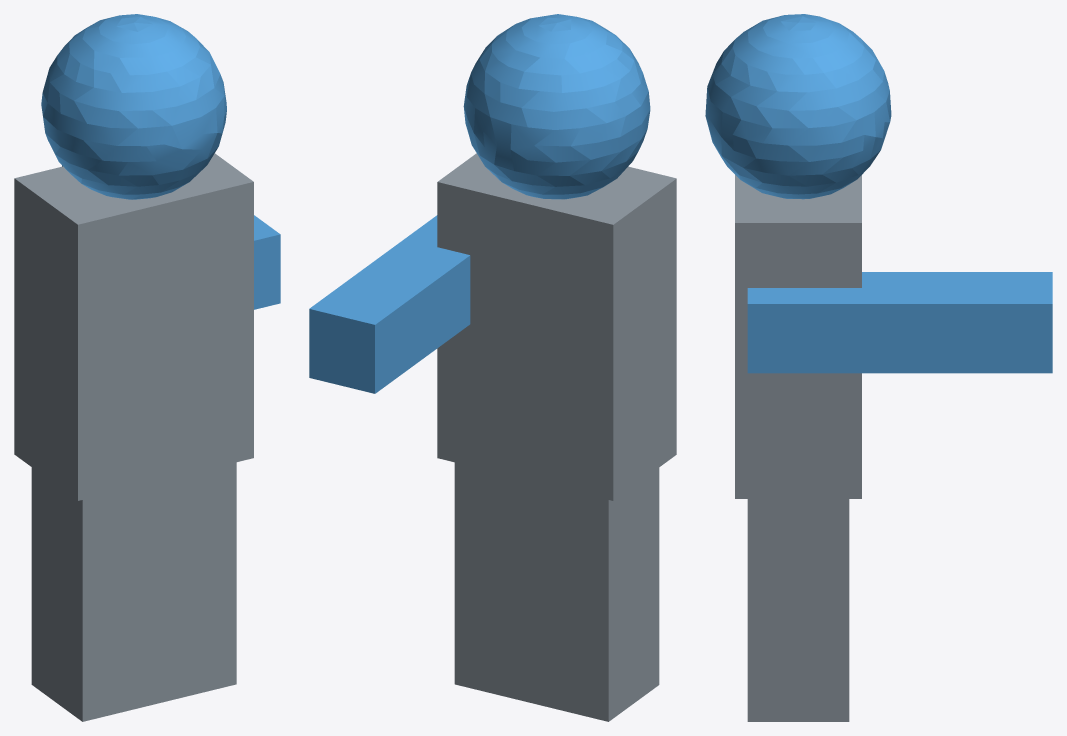
The model's file is AL_LongwatchSniper_LOD1.glb.
3 views of the same model, side by side, from view 1: azimuth 30°, elevation 25°; view 2: azimuth 150°, elevation 25°; view 3: azimuth 270°, elevation 25° (orthographic).
Parts seen in each view (by area): view 1: Head; view 2: Head; view 3: Head.
Part boxes in pixels (bbox=[...]): Head: bbox=[14, 14, 280, 721]; Head: bbox=[309, 14, 676, 721]; Head: bbox=[705, 14, 1052, 721].
Bounding box in the file's own units: 57 × 172 × 81.99.
